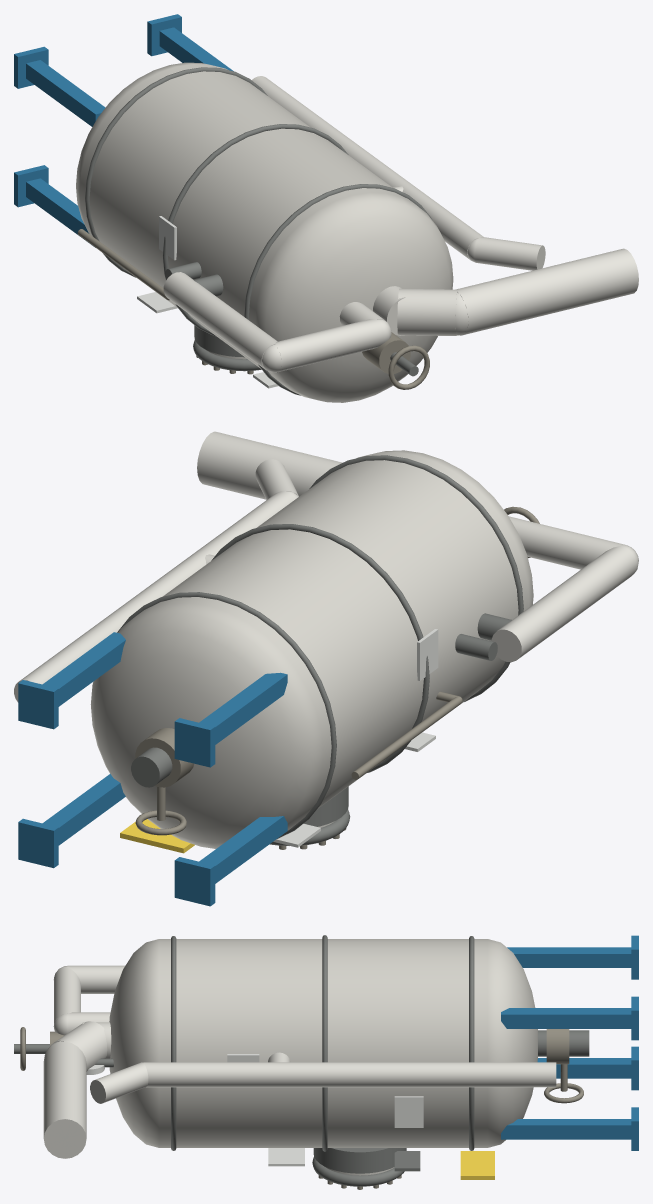
Rendered from Balao_Flash_.glb.
The picture shows the model from 3 angles, top to bottom: view 1: azimuth 30°, elevation 25°; view 2: azimuth 150°, elevation 25°; view 3: azimuth 270°, elevation 25°; orthographic projection. The views are drawn at different scales.
Parts seen in each view (by area): view 1: Corpo vertical isolado, Tampo superior, Linha superior direita_2, Tubo lateral principal_1, Linha superior em U_3, Linha superior em U_2, Linha superior direita_1, Perna azul 3, Tubo lateral principal_2, Cinta inferior, Cinta central, Perna azul 1 (+14 smaller); view 2: Corpo vertical isolado, Tampo inferior, Linha superior em U_3, Tubo lateral principal_1, Linha superior direita_2, Linha superior em U_2, Perna azul 3, Perna azul 1, Perna azul 4, Cinta inferior, Cinta central, Perna azul 2 (+15 smaller); view 3: Corpo vertical isolado, Tubo lateral principal_1, Tampo superior, Tampo inferior, Linha superior direita_2, Perna azul 4, Perna azul 2, Perna azul 3, Pescoco da boca de visita, Tubo lateral principal_2, Perna azul 1, Linha superior direita_1 (+14 smaller).
Boxes of the visible parts, x1,y1,x2,y2 form: Corpo vertical isolado: (79, 64, 413, 388); Tampo superior: (255, 192, 453, 402); Linha superior direita_2: (455, 248, 638, 335); Tubo lateral principal_1: (252, 76, 483, 260); Linha superior em U_3: (163, 272, 277, 370); Linha superior em U_2: (274, 319, 383, 372); Linha superior direita_1: (397, 288, 456, 335); Perna azul 3: (26, 60, 105, 126); Tubo lateral principal_2: (474, 237, 545, 270); Cinta inferior: (85, 67, 267, 277); Cinta central: (162, 124, 348, 336); Perna azul 1: (26, 178, 95, 247); Corpo vertical isolado: (137, 452, 529, 830); Tampo inferior: (90, 603, 323, 848); Linha superior em U_3: (491, 545, 636, 662); Tubo lateral principal_1: (14, 491, 296, 702); Linha superior direita_2: (197, 431, 342, 499); Linha superior em U_2: (509, 516, 624, 569); Perna azul 3: (199, 672, 287, 744); Perna azul 1: (199, 816, 287, 883); Perna azul 4: (42, 632, 125, 706); Cinta inferior: (117, 592, 336, 838); Cinta central: (211, 524, 429, 772); Perna azul 2: (42, 773, 125, 845); Corpo vertical isolado: (159, 939, 487, 1147); Tubo lateral principal_1: (144, 1062, 556, 1087); Tampo superior: (109, 939, 159, 1147); Tampo inferior: (487, 939, 537, 1147); Linha superior direita_2: (43, 1041, 86, 1158); Perna azul 4: (501, 1008, 631, 1028); Perna azul 2: (501, 1119, 631, 1139); Perna azul 3: (507, 947, 631, 967); Pescoco da boca de visita: (313, 1148, 406, 1173); Tubo lateral principal_2: (90, 1062, 148, 1103); Perna azul 1: (537, 1058, 631, 1078); Linha superior direita_1: (54, 1021, 107, 1071).
Size of the model in its own units: 2.16 by 1.39 by 3.42.
